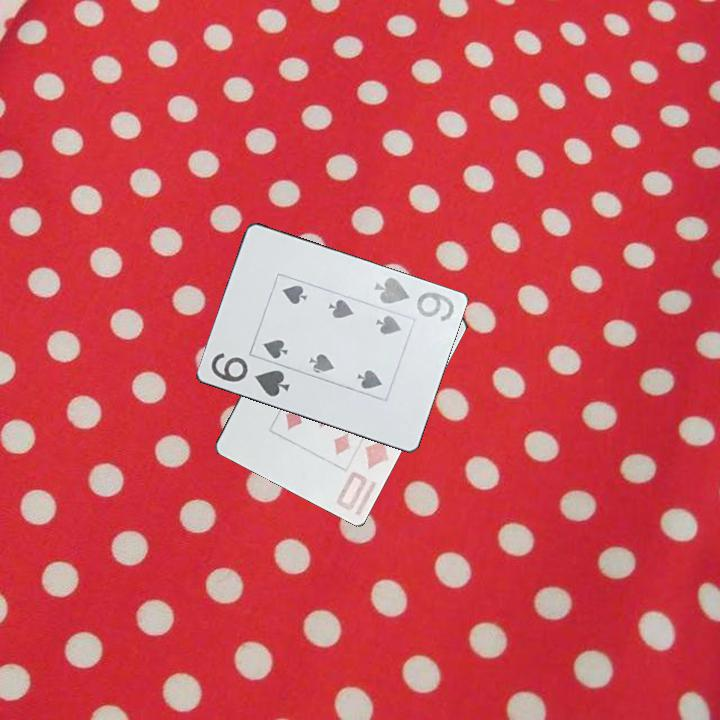6s: (370, 273, 457, 325), (207, 349, 293, 401)
Td: (332, 432, 391, 513)
